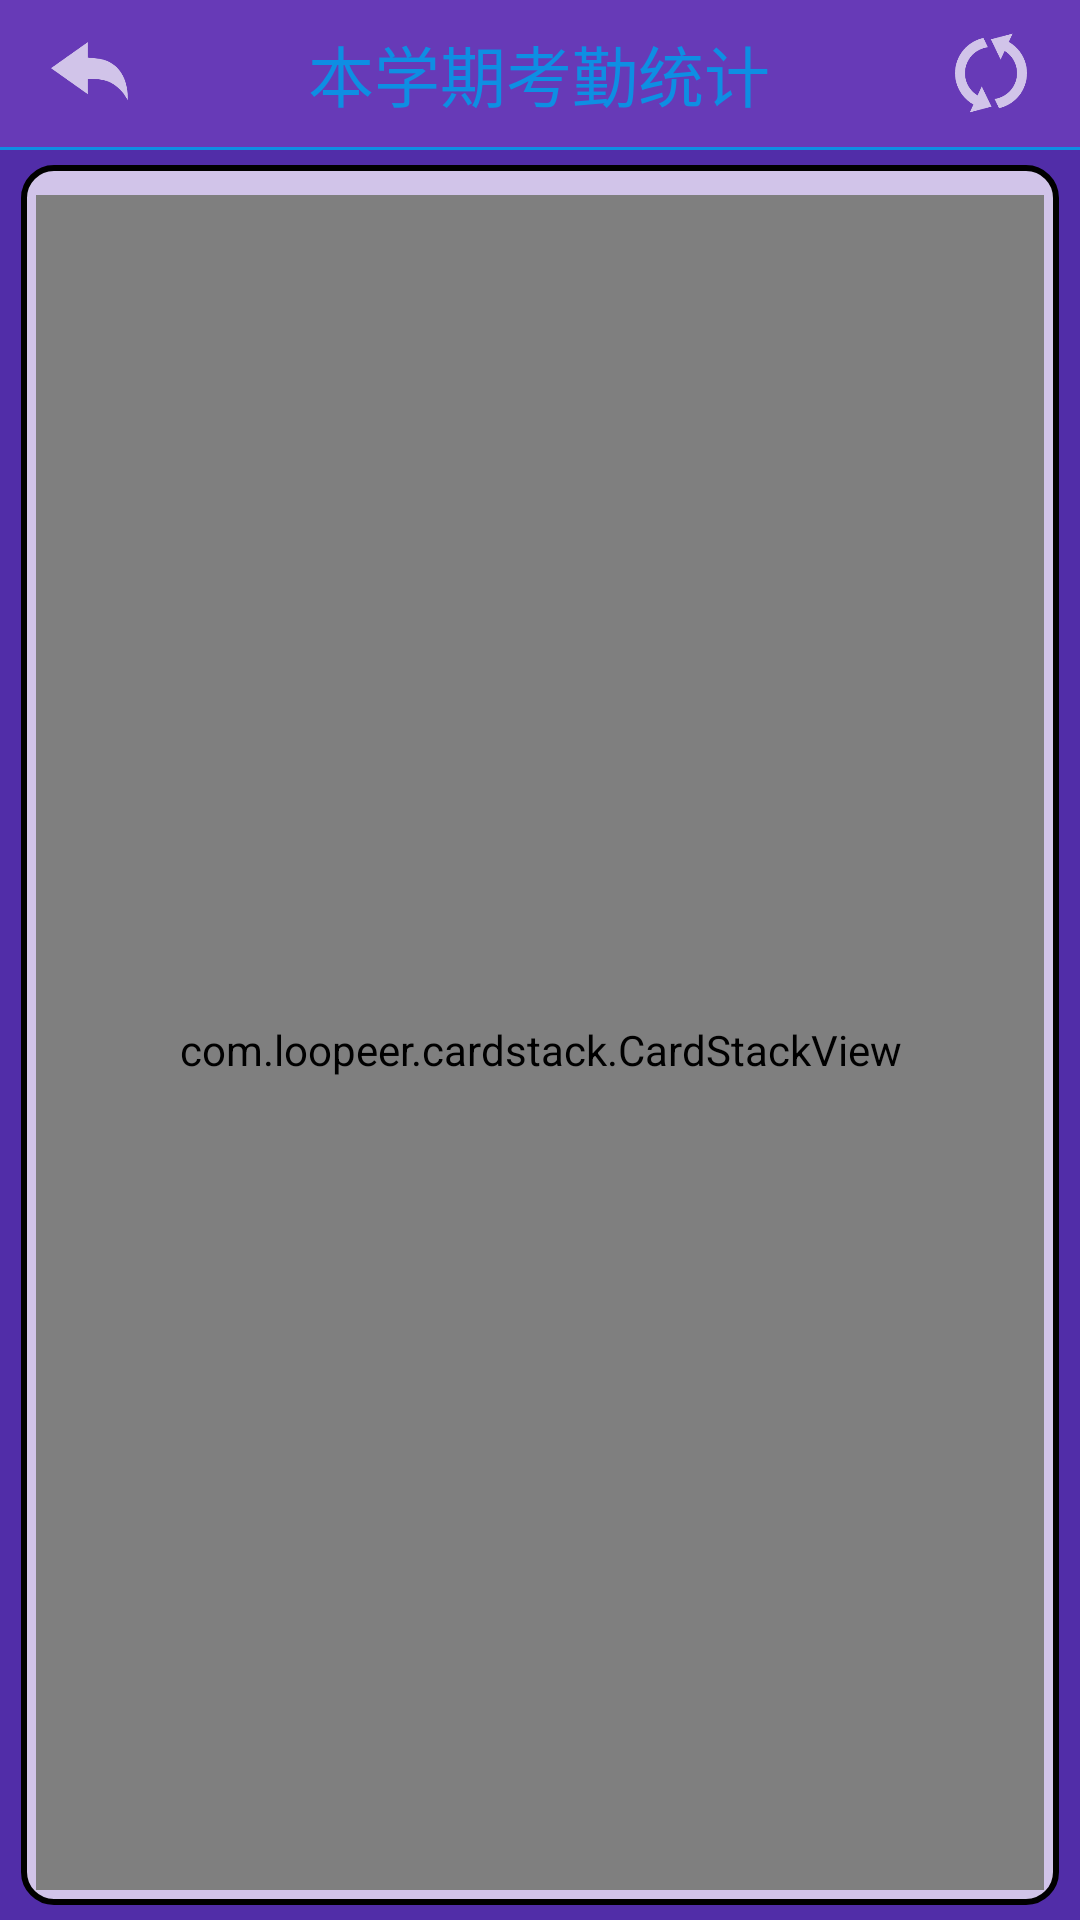

Locate icon controls on the screen. Image size 1080 × 1920, boxes as (x1=x1, y1=y1, x2=x2, y2=y2).
fanhui: (x1=51, y1=42, x2=128, y2=100)
shuaxin: (x1=955, y1=34, x2=1027, y2=112)
